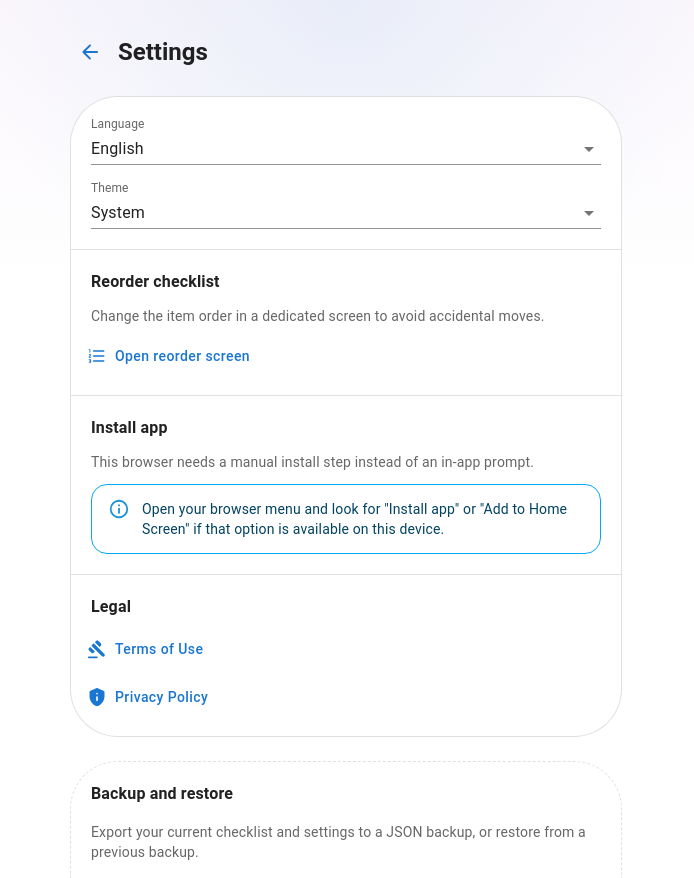
Test: CheckBefore app › falls back to the checklist page when settings is opened directly and back is pressed
The image size is (694, 878).
Expected: the heading "Settings" is shown, x1=118 y1=36 x2=208 y2=68
Click the button named "Back": (90, 52) x1=70 y1=32 x2=110 y2=72
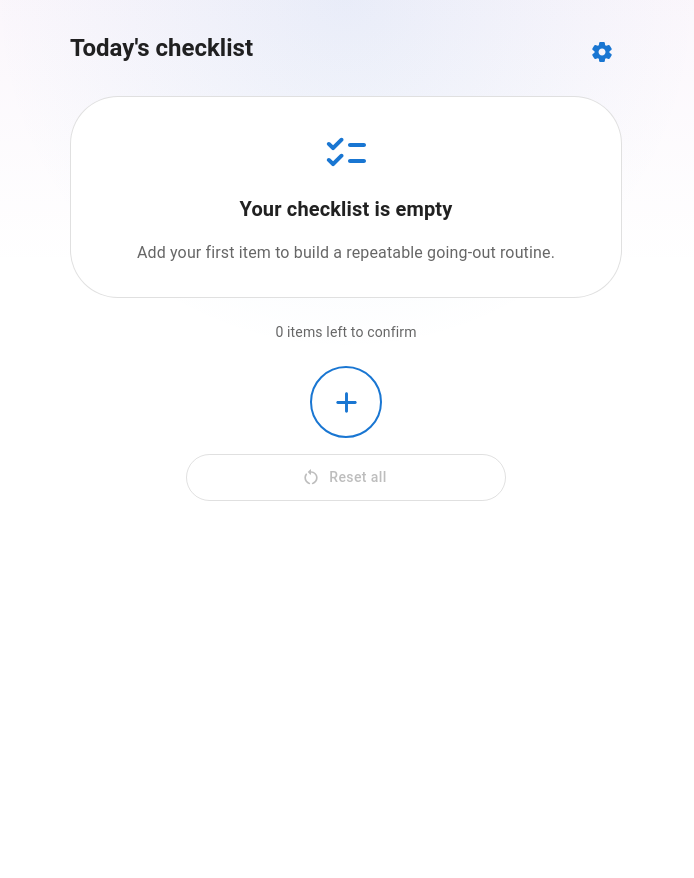
Expected: the heading "Today's checklist" is shown, x1=70 y1=32 x2=253 y2=64
